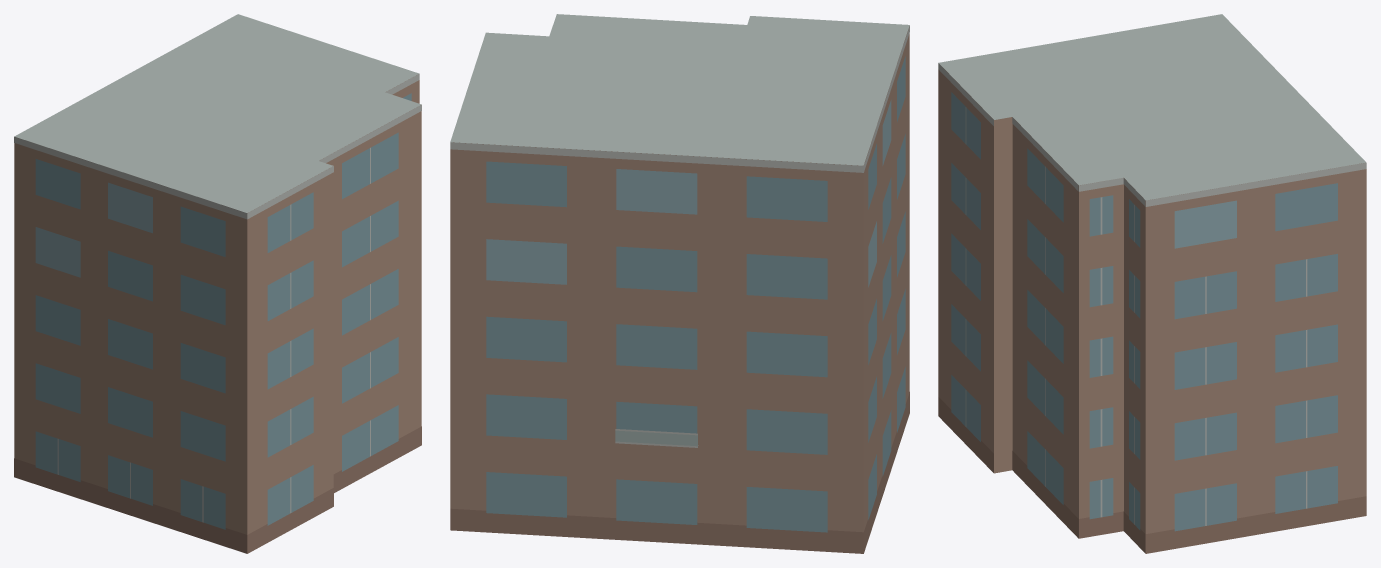
File: survey-upis-32835337.glb
3 views of the same model, side by side, from view 1: azimuth 30°, elevation 25°; view 2: azimuth 150°, elevation 25°; view 3: azimuth 270°, elevation 25° (orthographic). The views are drawn at different scales.
Parts seen in each view (by area): view 1: survey-upis-32835337.tmp; view 2: survey-upis-32835337.tmp; view 3: survey-upis-32835337.tmp.
Boxes of the visible parts, left/top/right/bottom form: survey-upis-32835337.tmp: left=14, top=14, right=421, bottom=553; survey-upis-32835337.tmp: left=450, top=14, right=909, bottom=553; survey-upis-32835337.tmp: left=938, top=14, right=1366, bottom=553.
Bounding box in the file's own units: 14.95 × 13.2 × 14.5.
